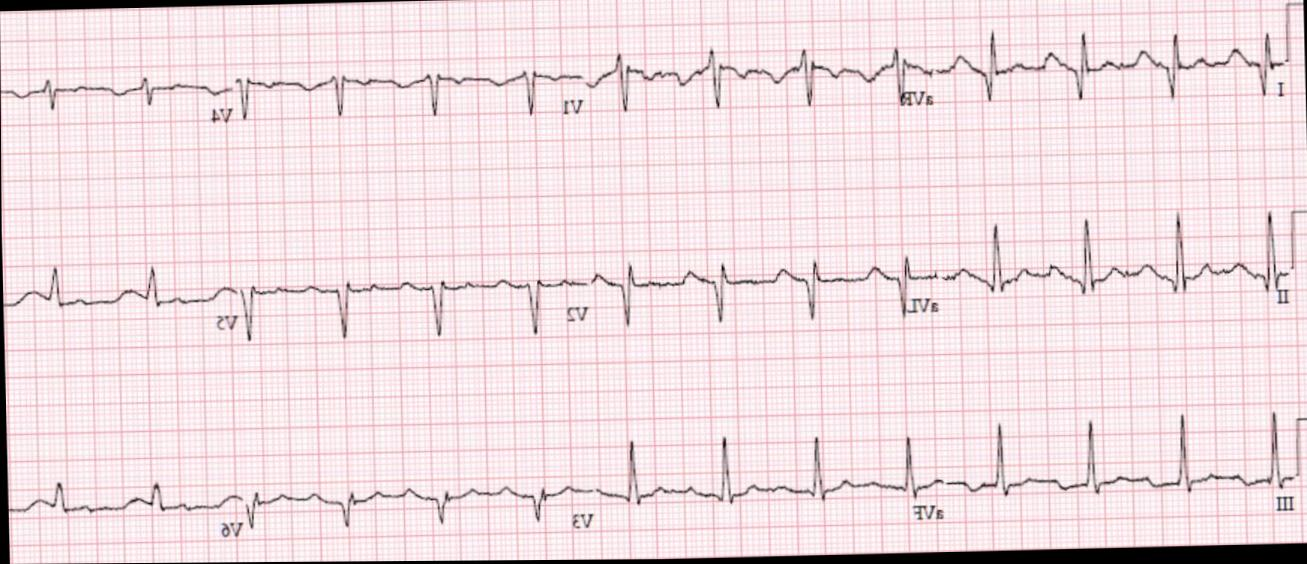Lead_I: (929, 25, 1289, 113)
Lead_II: (937, 200, 1291, 324)
Lead_III: (941, 398, 1297, 532)
Lead_V1: (234, 44, 585, 138)
Lead_V2: (236, 252, 594, 351)
Lead_V3: (239, 447, 597, 561)
Lead_V4: (0, 62, 235, 142)
Lead_V5: (1, 245, 236, 365)
Lead_V6: (6, 465, 242, 561)
Lead_aVF: (590, 416, 943, 540)
Lead_aVL: (588, 227, 941, 337)
Lead_aVR: (581, 27, 934, 135)
